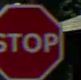Stop: (0, 0, 63, 79)
